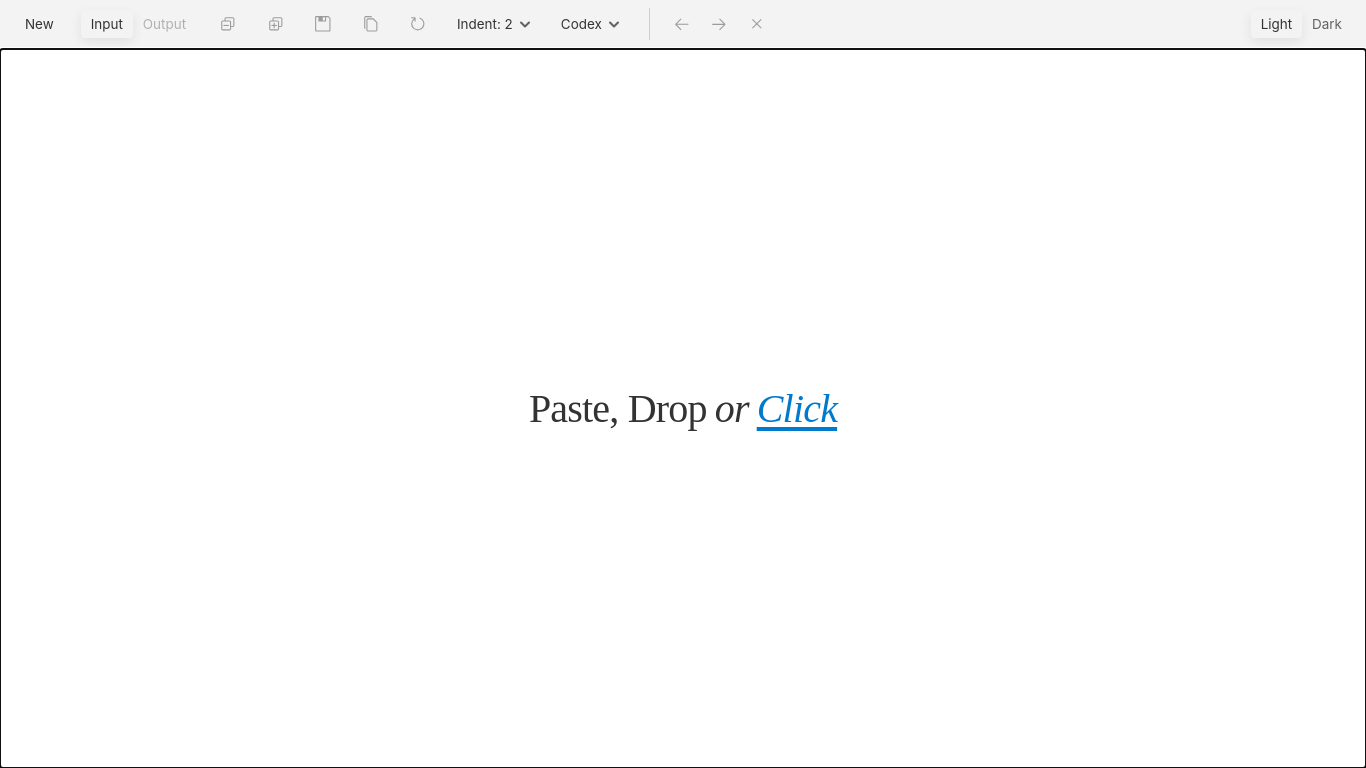
App › aborts oversized open-file ingestion and returns to the idle window after dismissing the dialog
Click the button "Click" at (797, 408), box [757, 378, 837, 438]
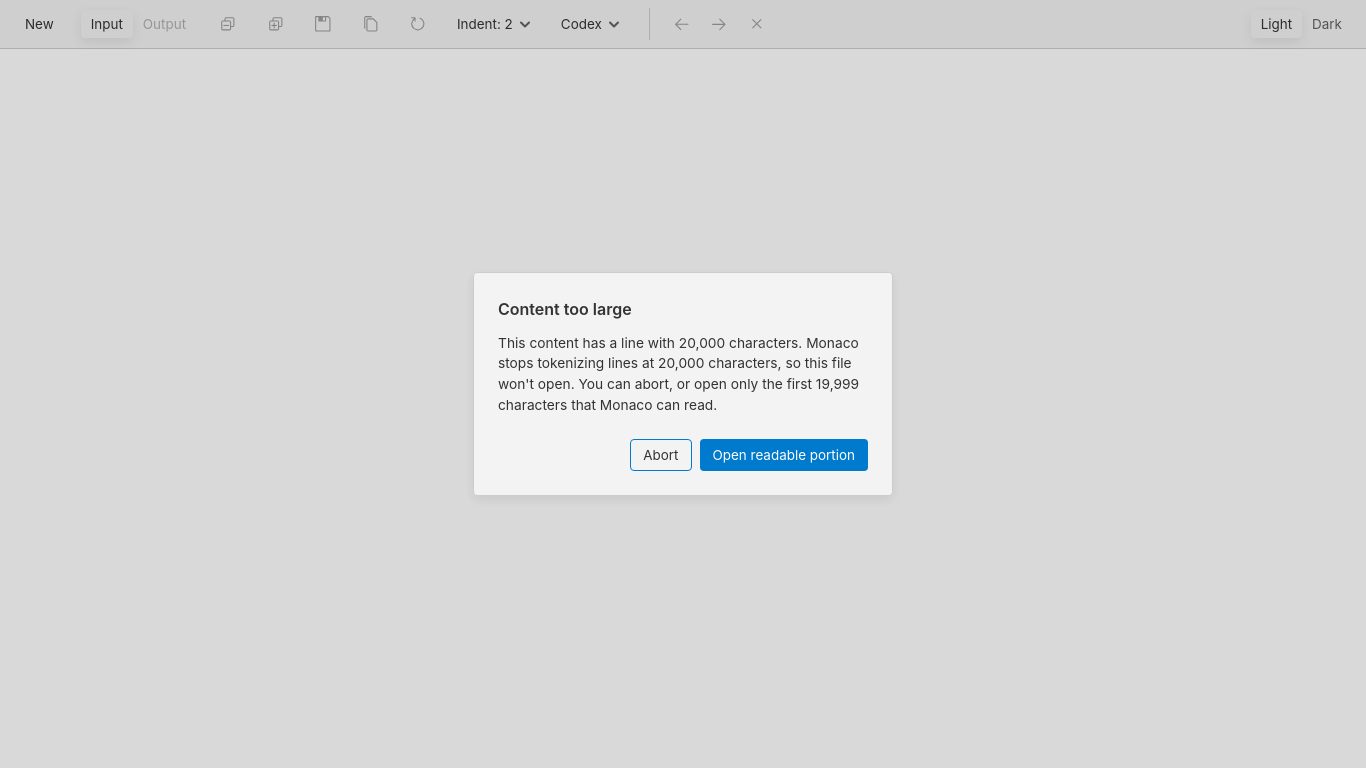
Expected: the heading "Content too large" is shown, [498, 299, 632, 319]
Expected: the text "Monaco stops tokenizing lines" is shown, [498, 335, 859, 413]
Expected: the button "Abort" is shown
Click the button "Abort" at (661, 455), box [630, 439, 692, 471]
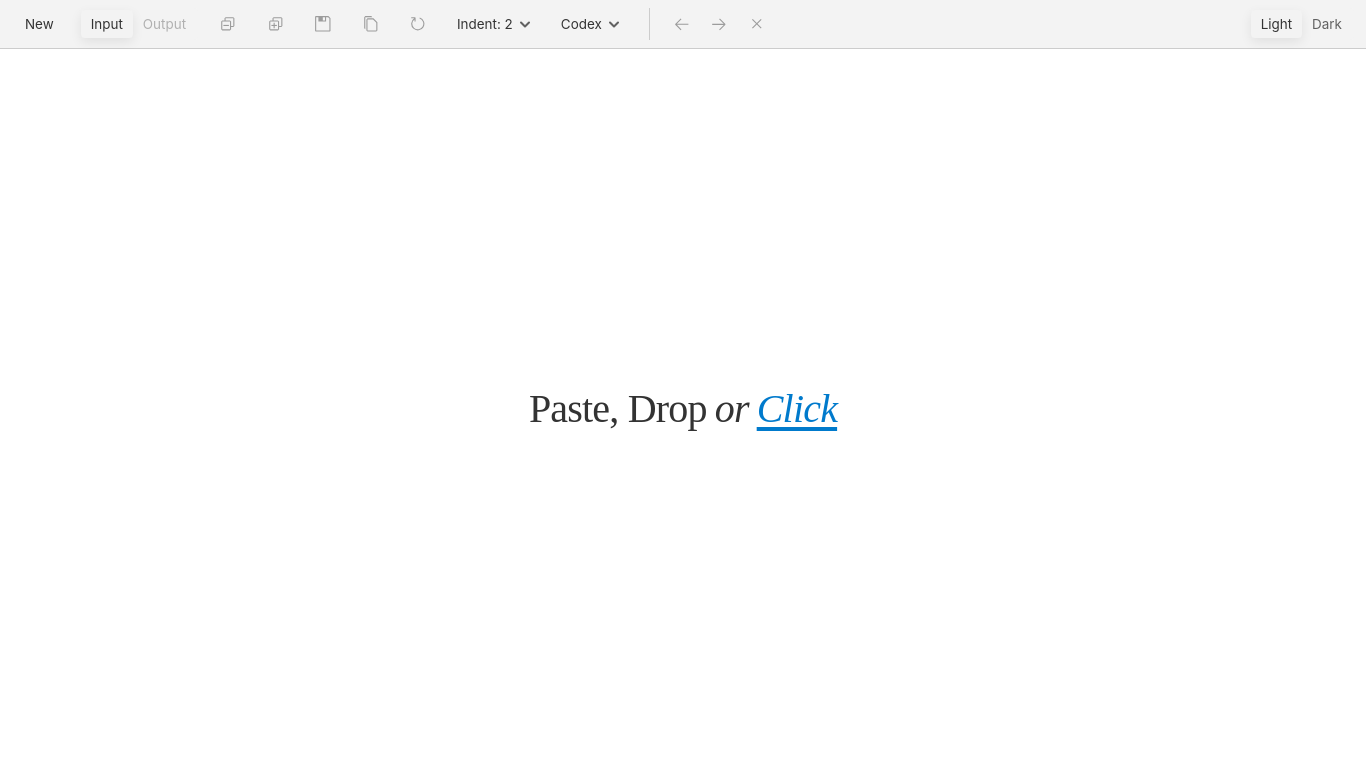
Expected: the element with test id "empty-state-cta" is shown, [529, 378, 837, 438]
Expected: the heading "Content too large" is gone
